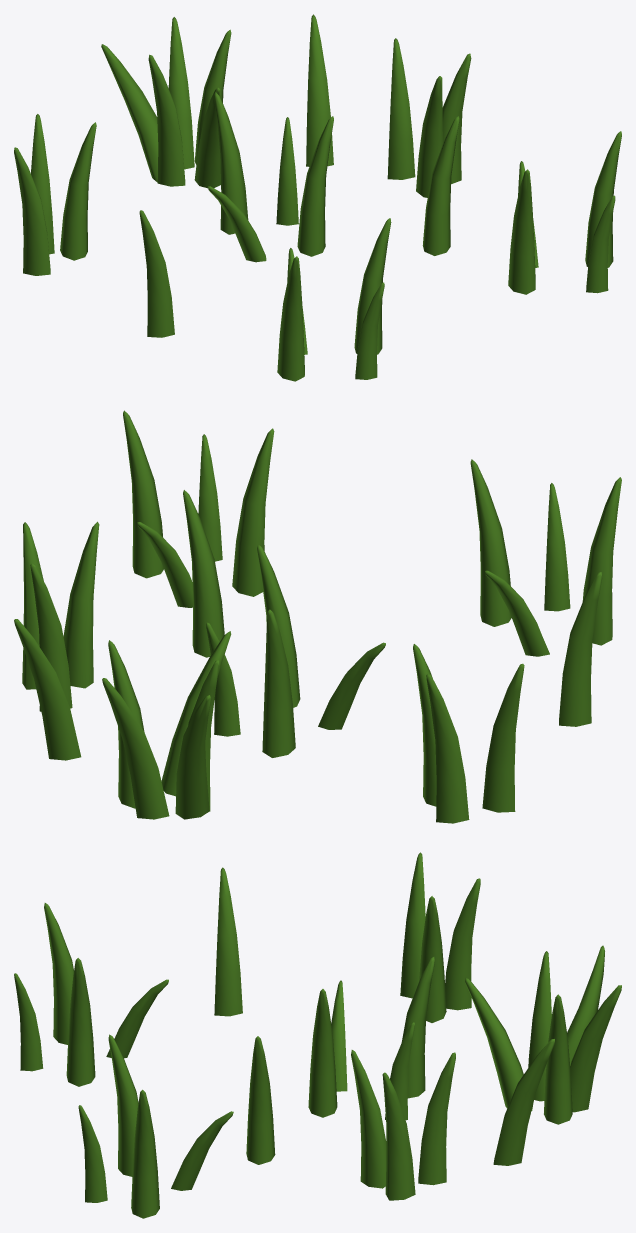
The model's file is SM_grass_04.fbx.
3 renders of one model, top to bottom at view 1: azimuth 30°, elevation 25°; view 2: azimuth 150°, elevation 25°; view 3: azimuth 270°, elevation 25°, orthographic. The views are drawn at different scales.
Visible parts, largest first — view 1: Line021; view 2: Line021; view 3: Line021.
Boxes of the visible parts, x1,y1,x2,y2 form: Line021: [14, 14, 621, 381]; Line021: [14, 410, 621, 823]; Line021: [14, 852, 621, 1218].
Size of the model in its own units: 109 by 28.78 by 117.
